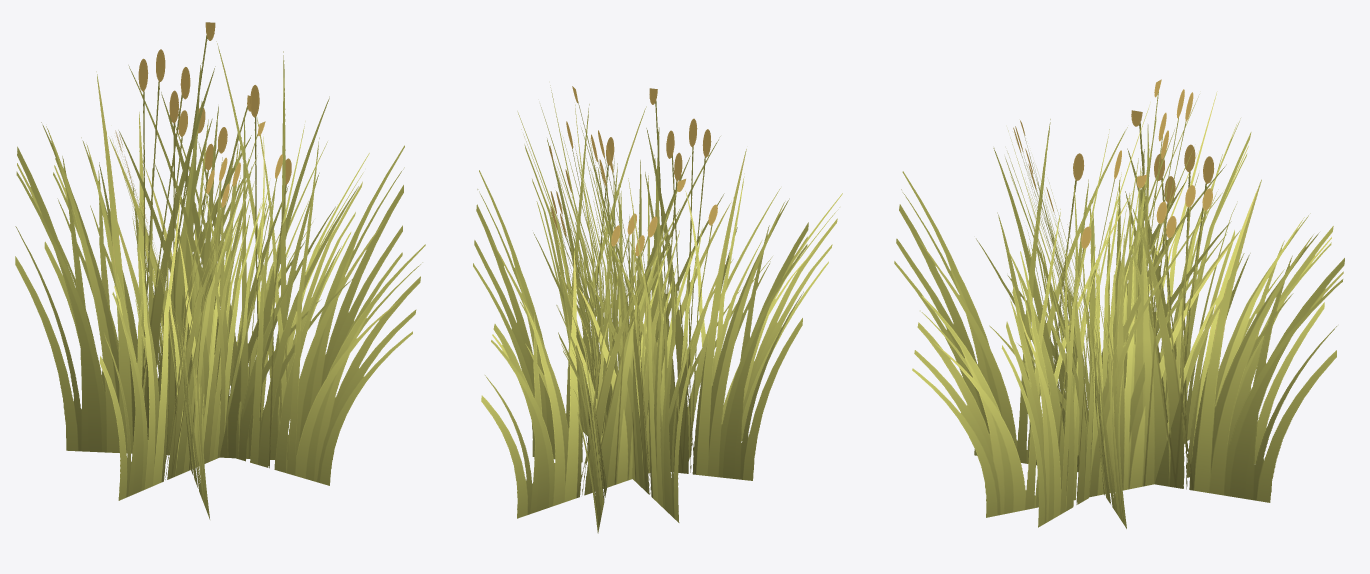
Rendered from savanna_grass_1.glb.
3 views of the same model, side by side, from view 1: azimuth 30°, elevation 25°; view 2: azimuth 150°, elevation 25°; view 3: azimuth 270°, elevation 25° (orthographic). The views are drawn at different scales.
Parts seen in each view (by area): view 1: savanna_grass_1; view 2: savanna_grass_1; view 3: savanna_grass_1.
Part boxes in pixels (box(x1,y1,x2,y2)): savanna_grass_1: box(15, 22, 425, 519); savanna_grass_1: box(473, 85, 842, 533); savanna_grass_1: box(894, 79, 1344, 528).
Bounding box in the file's own units: 0.7507 × 0.9271 × 0.9375.
Materials: 1 (1 with a texture image).
